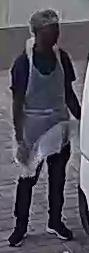apron: (22, 18, 71, 127)
